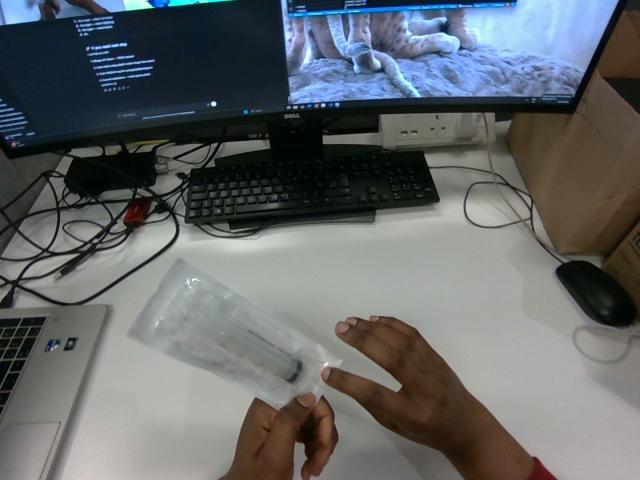syringe: (129, 260, 340, 408)
